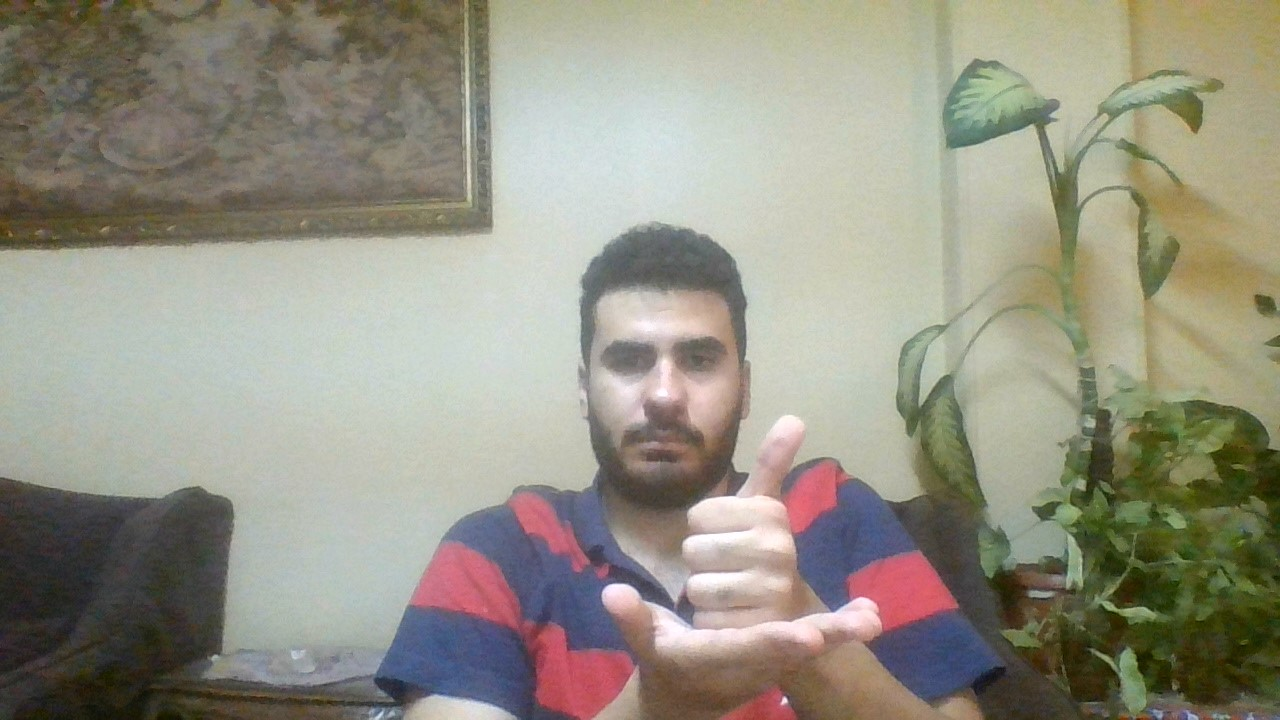help: (607, 395, 891, 671)
